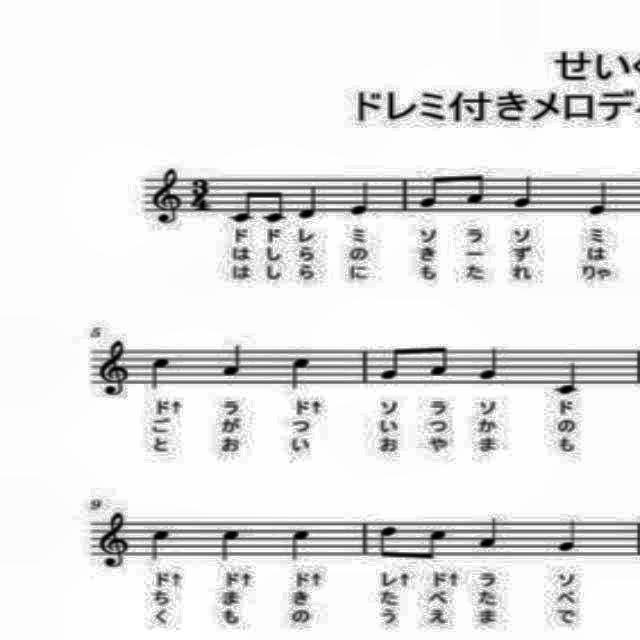Eighth-note: (418, 340, 457, 380), (419, 516, 451, 564), (372, 518, 406, 562), (224, 187, 260, 226), (377, 344, 407, 386), (258, 186, 290, 224), (414, 173, 446, 211), (459, 168, 488, 208)
Quarter-note: (344, 177, 378, 219), (584, 176, 612, 224), (144, 352, 176, 394), (552, 357, 584, 399), (286, 350, 316, 394), (217, 522, 247, 566), (478, 341, 507, 384), (288, 522, 316, 566), (147, 521, 176, 563), (474, 511, 502, 554), (294, 180, 322, 222), (220, 341, 248, 383), (555, 514, 581, 558), (510, 170, 538, 210)
Treble-clef: (90, 511, 134, 574), (147, 162, 185, 230), (92, 336, 132, 399)
